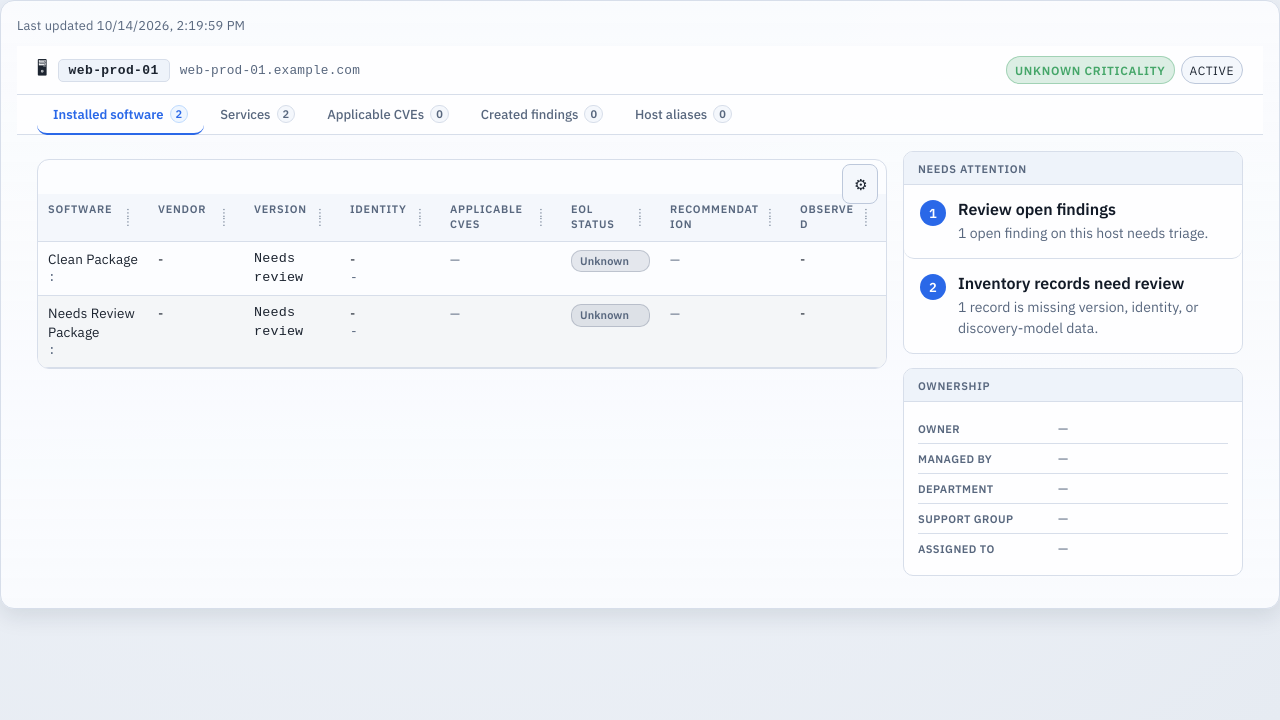
Scenario: HostAssetDetailPage › filters the Installed software tab to only records needing review when the attention card is clicked
Expected: the text "web-prod-01" is shown, [58,59,170,82]
Expected: the text "Clean Package" is shown, [48,250,138,268]
Click the button "Inventory records need review": (1073, 306) [904,259,1242,353]
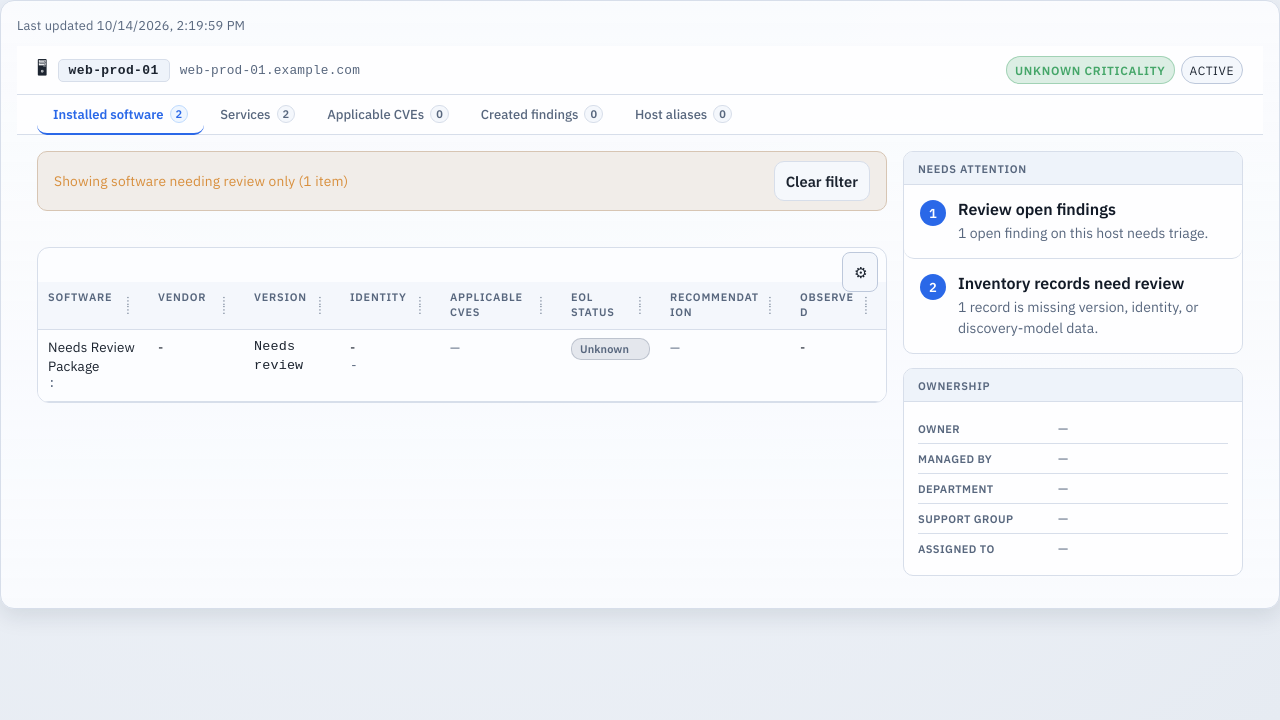
Expected: the text "Needs Review Package" is shown, [48,338,138,375]
Now the text "Showing software needing review only (1 item)" is shown, box [54,172,348,190]
Now the text "Clean Package" is gone
